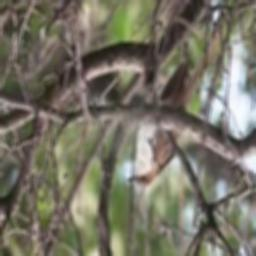Cuckoo: (128, 28, 226, 189)
